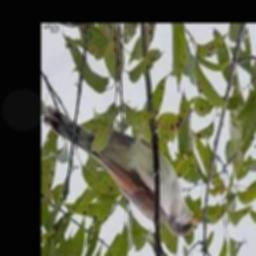Cuckoo: (43, 104, 207, 237)
